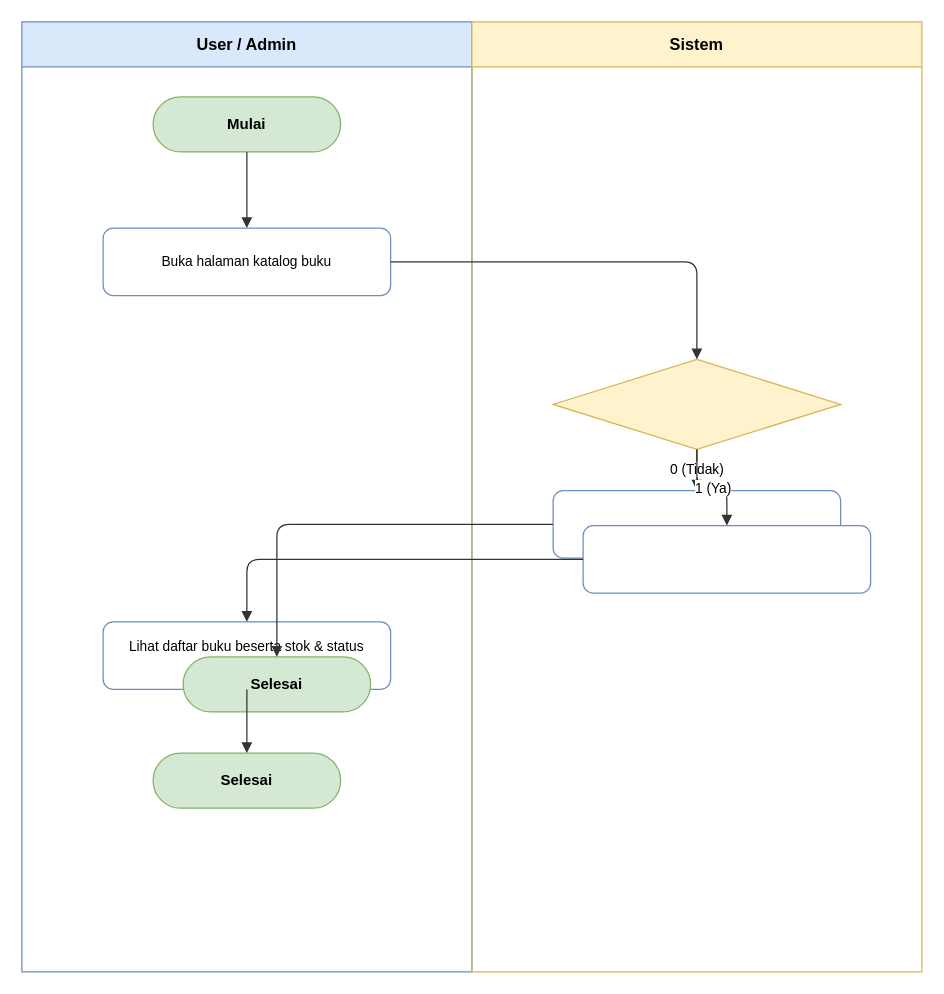
The diagram is 944 pixels wide and 994 high, and some of its shapes have lost their labels. The centre of each missing label's shape, as x and y in pixels:
"Apakah koleksi buku tersedia di katalog?" goes at (x=696, y=403).
"Tampilkan daftar koleksi buku lengkap" goes at (x=726, y=558).
"Tampilkan pesan belum ada koleksi buku" goes at (x=696, y=523).
